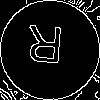R: (25, 25, 65, 73)
